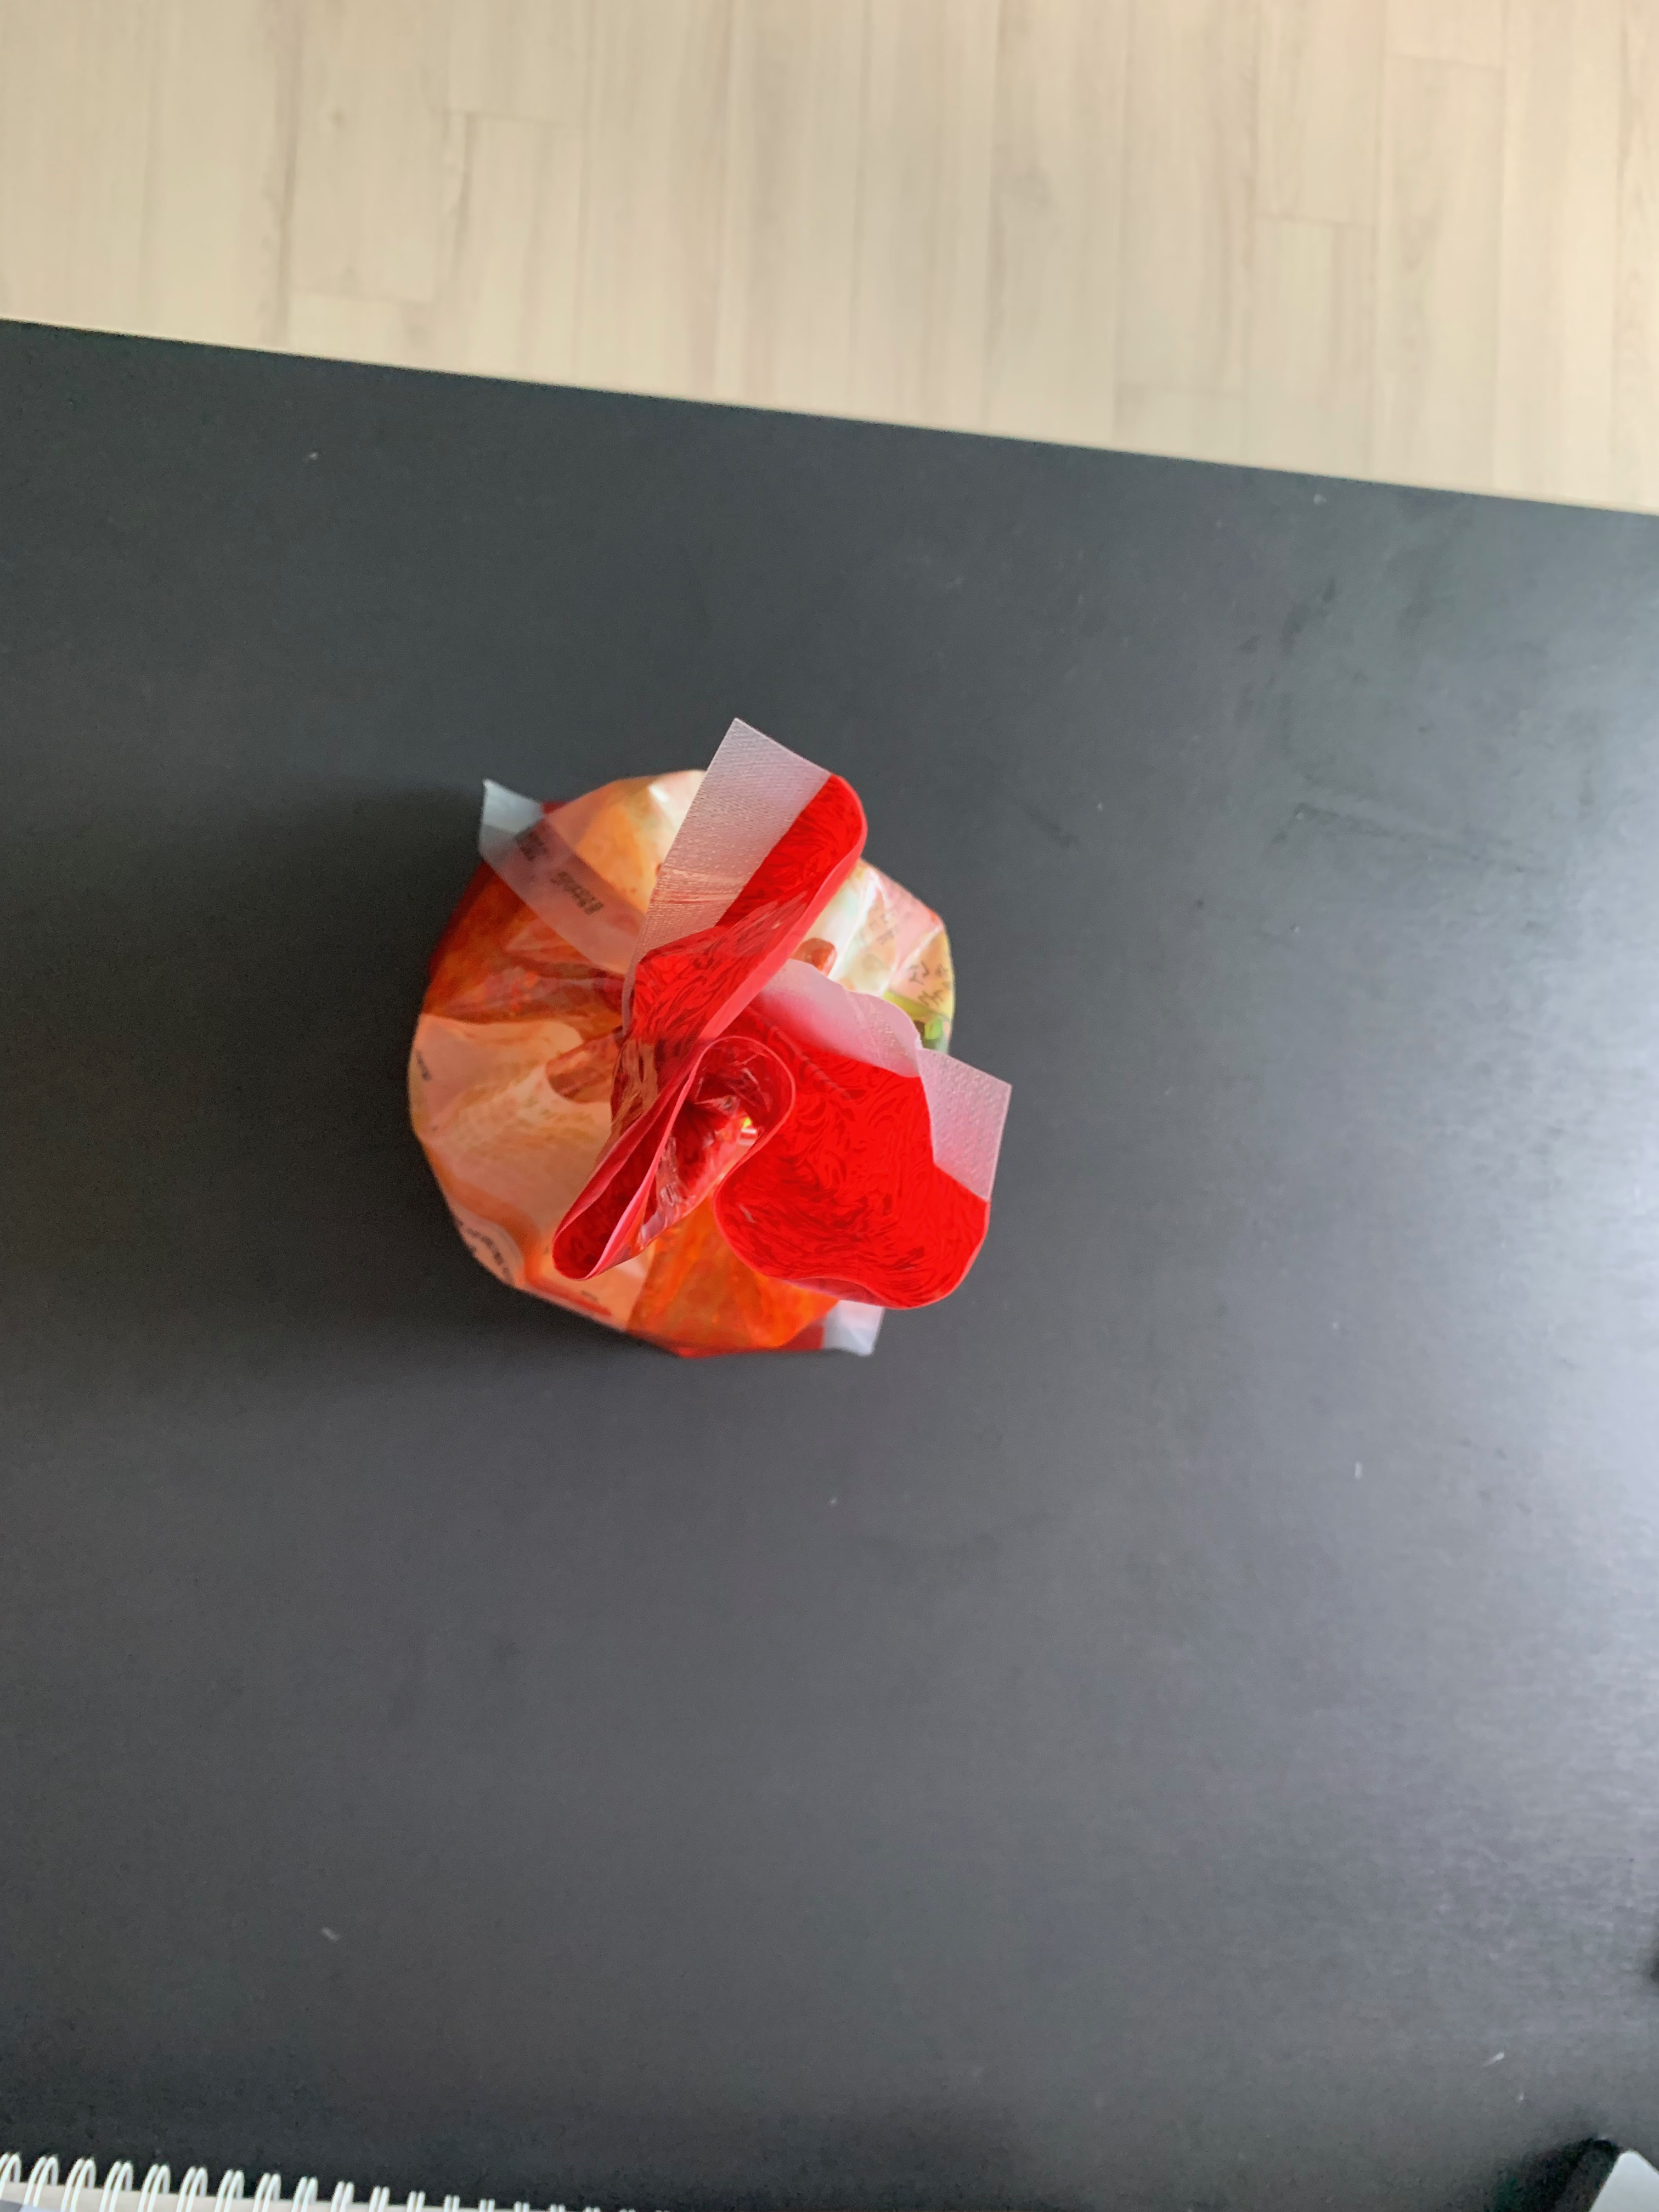kimchi: (394, 761, 988, 1353)
